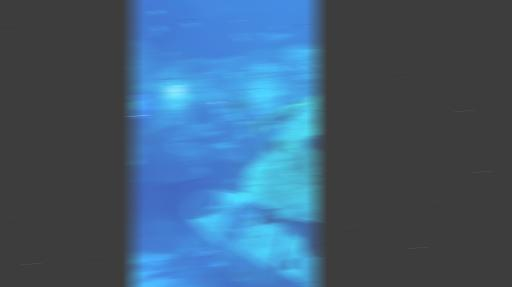Fish: (251, 99, 308, 132), (252, 112, 285, 132), (277, 99, 308, 120), (251, 32, 294, 44), (256, 206, 281, 226), (226, 98, 251, 111), (204, 204, 229, 215), (303, 135, 318, 153), (270, 138, 281, 153), (131, 99, 146, 110), (232, 161, 249, 170), (237, 272, 252, 280), (234, 32, 245, 42), (151, 25, 164, 33), (286, 258, 295, 269), (141, 130, 150, 139), (237, 121, 252, 126), (144, 60, 153, 67), (151, 10, 162, 15), (185, 22, 194, 28), (147, 33, 158, 37), (226, 179, 239, 182), (243, 89, 249, 95), (232, 135, 236, 142), (276, 25, 280, 30), (169, 51, 173, 55)
